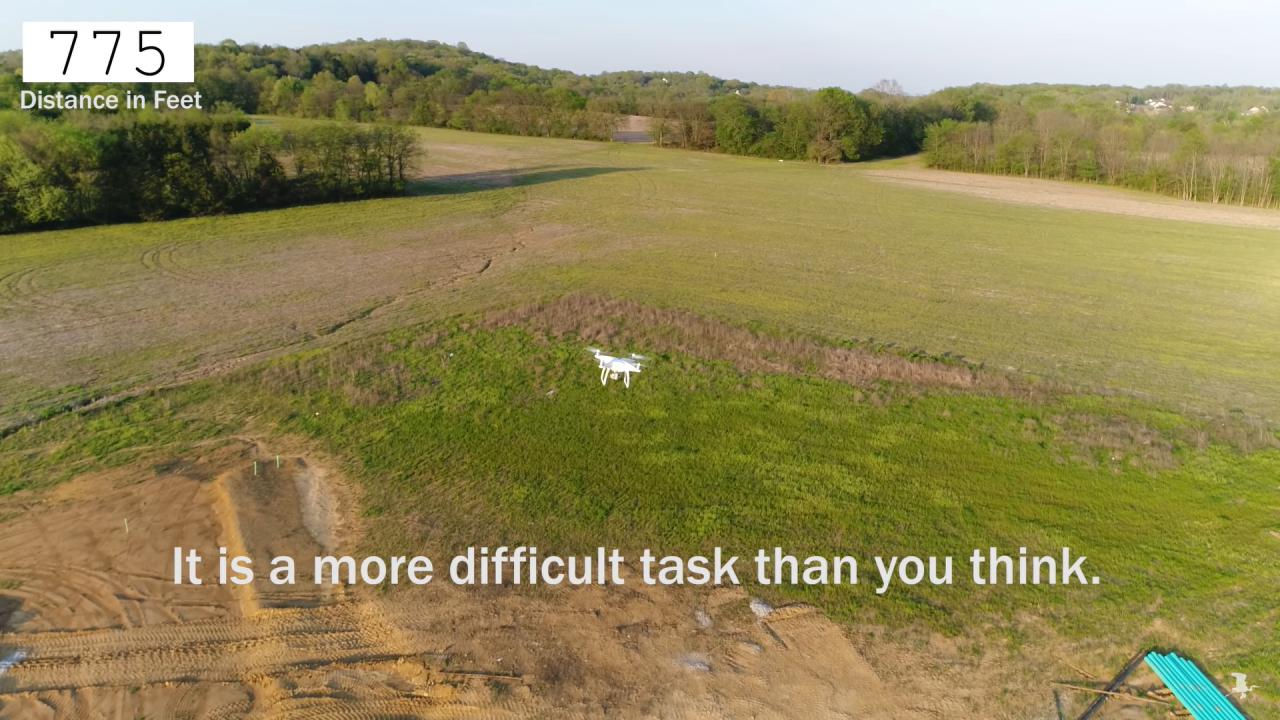Drone: (572, 341, 662, 393)
